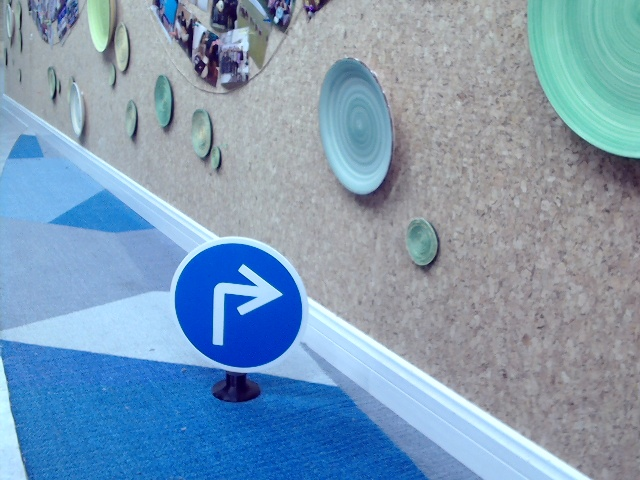turn_right: (203, 260, 281, 352)
